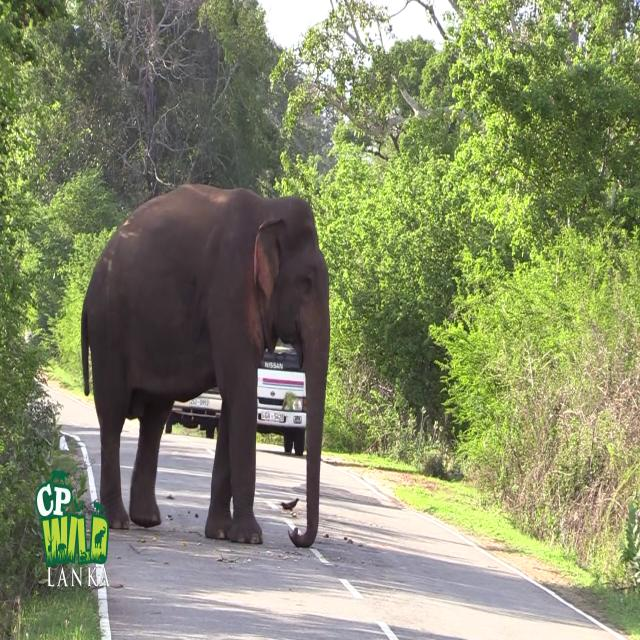Elephant: (80, 182, 330, 548)
